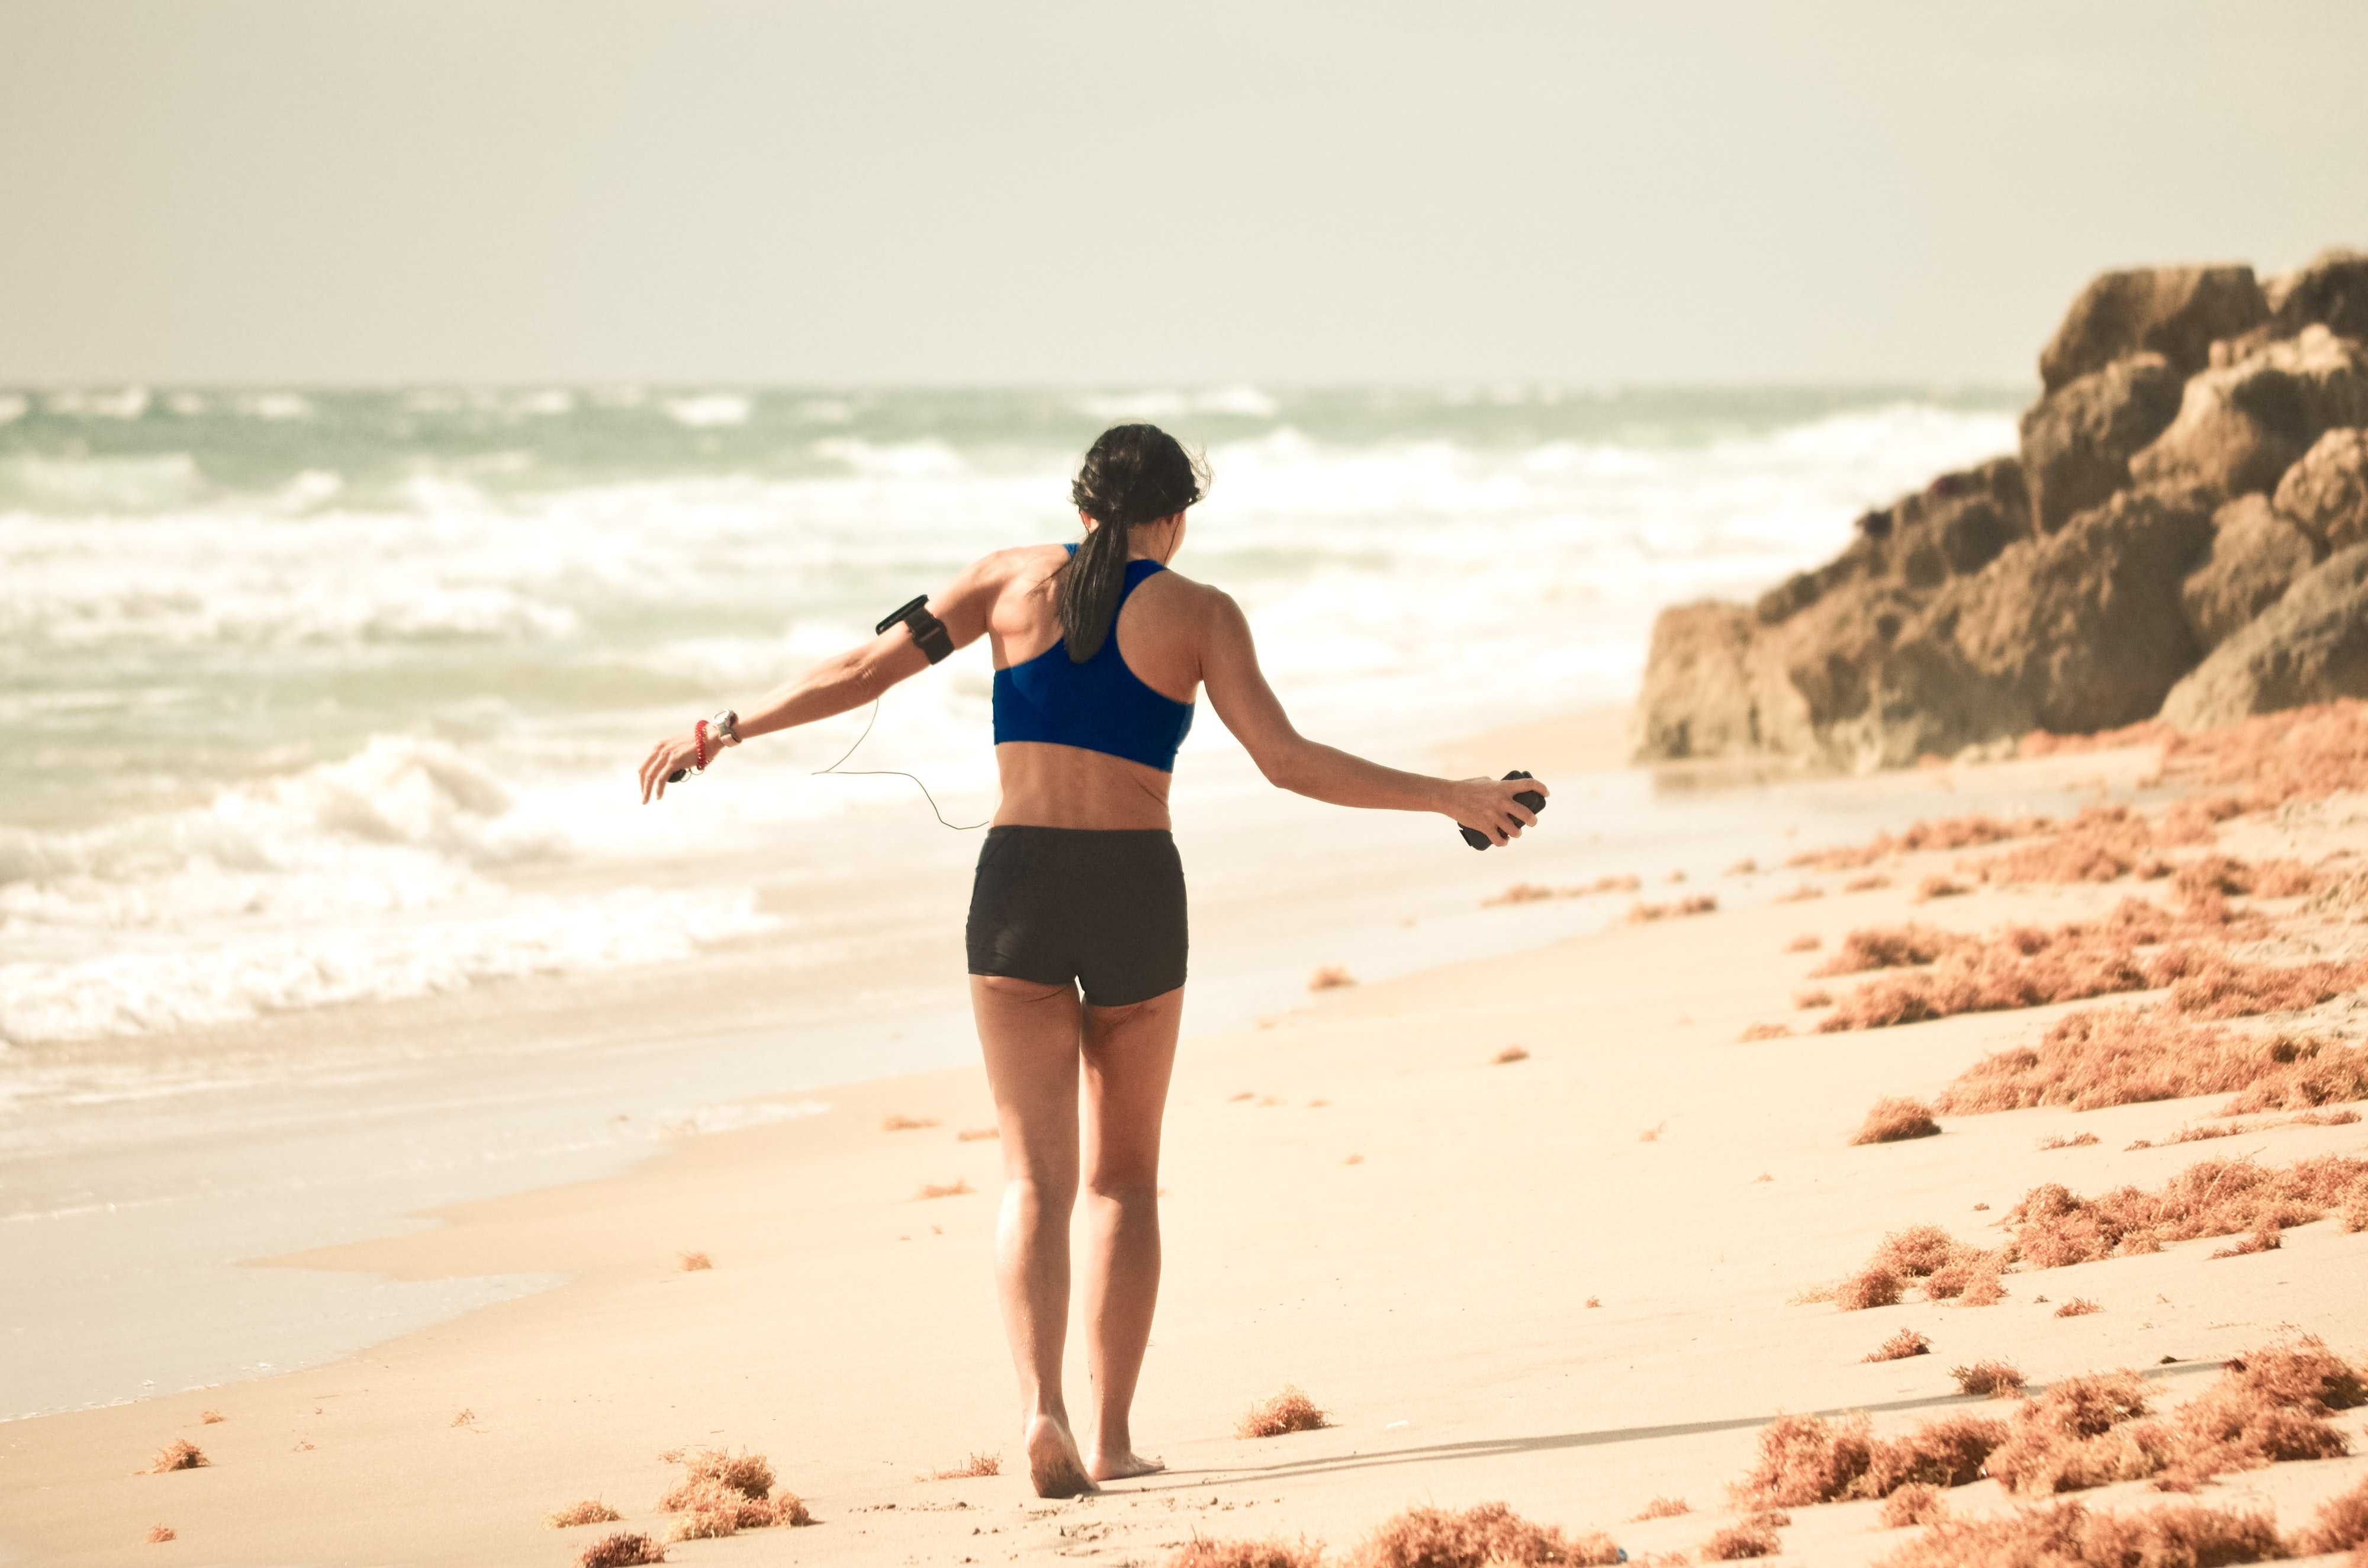person: (642, 422, 1543, 1486)
